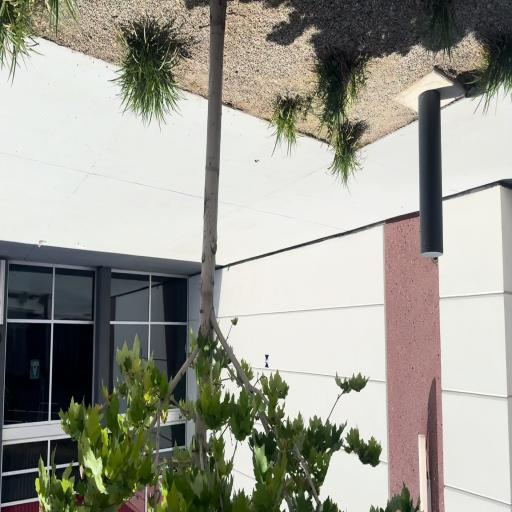target7: (265, 353, 269, 367)
